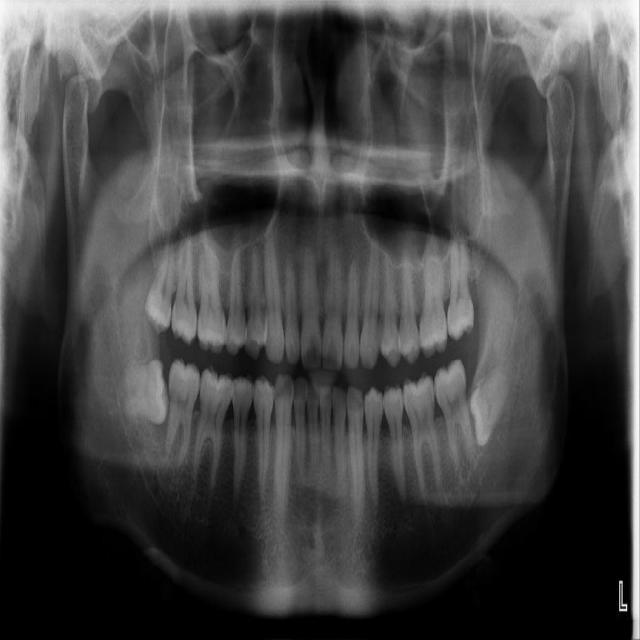3M ESPE Implant: (143, 216, 178, 335)
73: (616, 589, 622, 599)
BioHorizons Implant: (446, 203, 474, 340)
Biomet 3i Implant: (452, 356, 524, 447)
Blue Sky Bio Implant: (431, 356, 477, 472)
Caries: (172, 214, 197, 345)
Implant: (162, 357, 203, 471)
Keystone Dental Implant: (114, 358, 173, 429)
